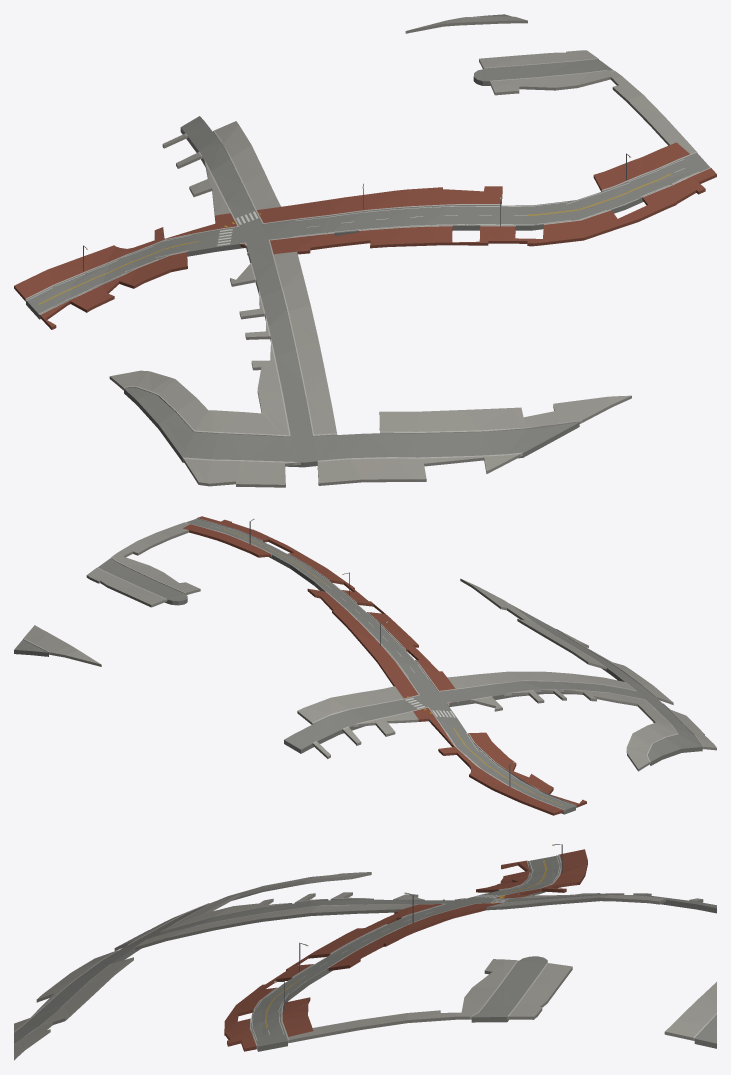
The picture shows the model from 3 angles, top to bottom: view 1: azimuth 30°, elevation 25°; view 2: azimuth 150°, elevation 25°; view 3: azimuth 270°, elevation 25°; orthographic projection. The views are drawn at different scales.
Size of the model in its own units: 147 by 46.76 by 146.
